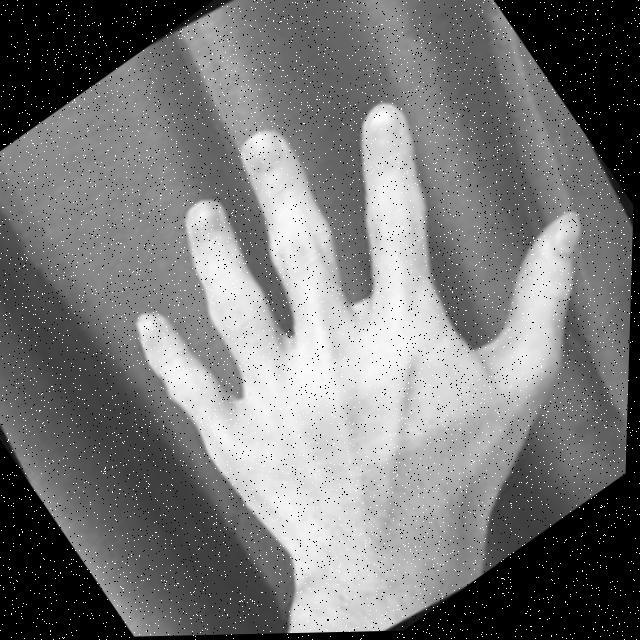no-gloves: (62, 0, 640, 618)
